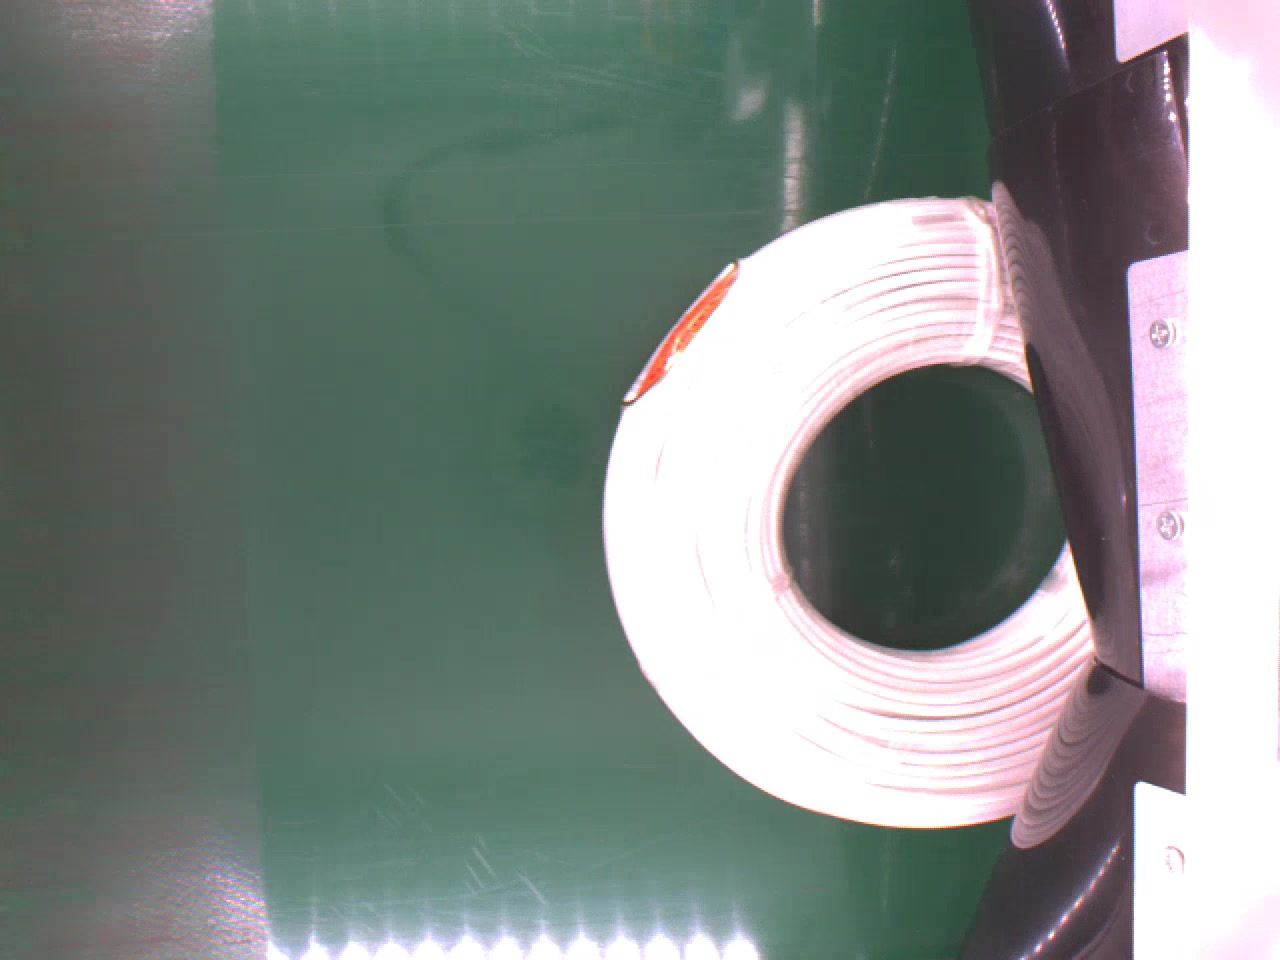white: (598, 194, 1096, 826)
